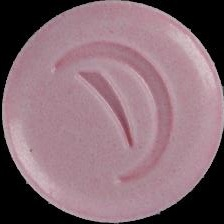45963-634: (0, 0, 224, 224)
